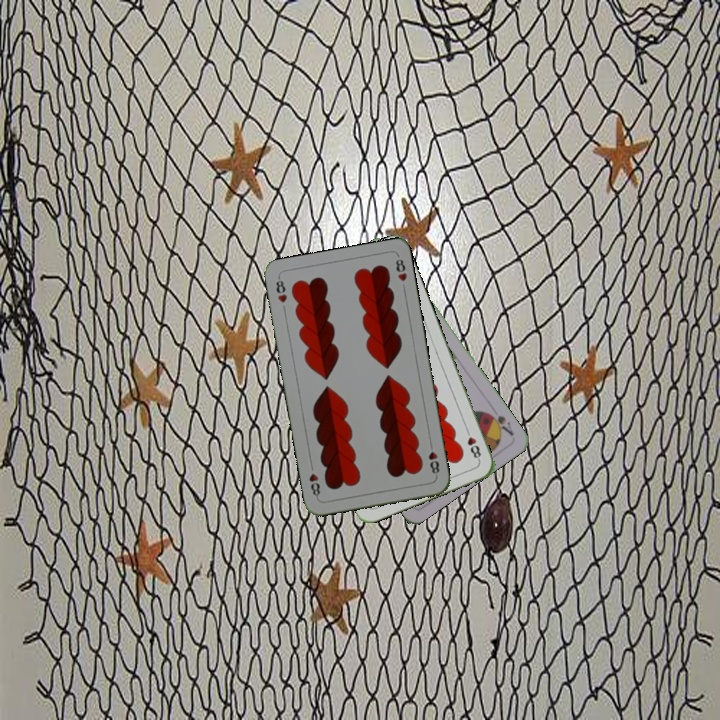H8: (461, 424, 484, 463), (424, 439, 442, 479), (272, 274, 290, 305)
SA: (483, 404, 516, 438)
